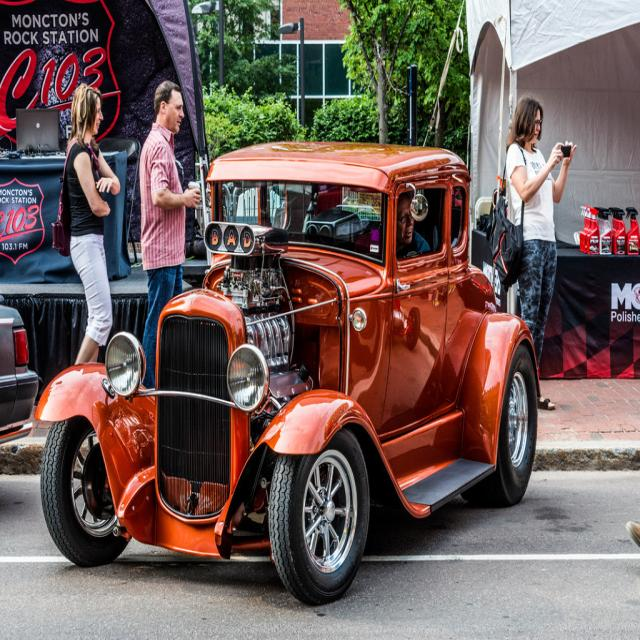car: (30, 134, 543, 609)
